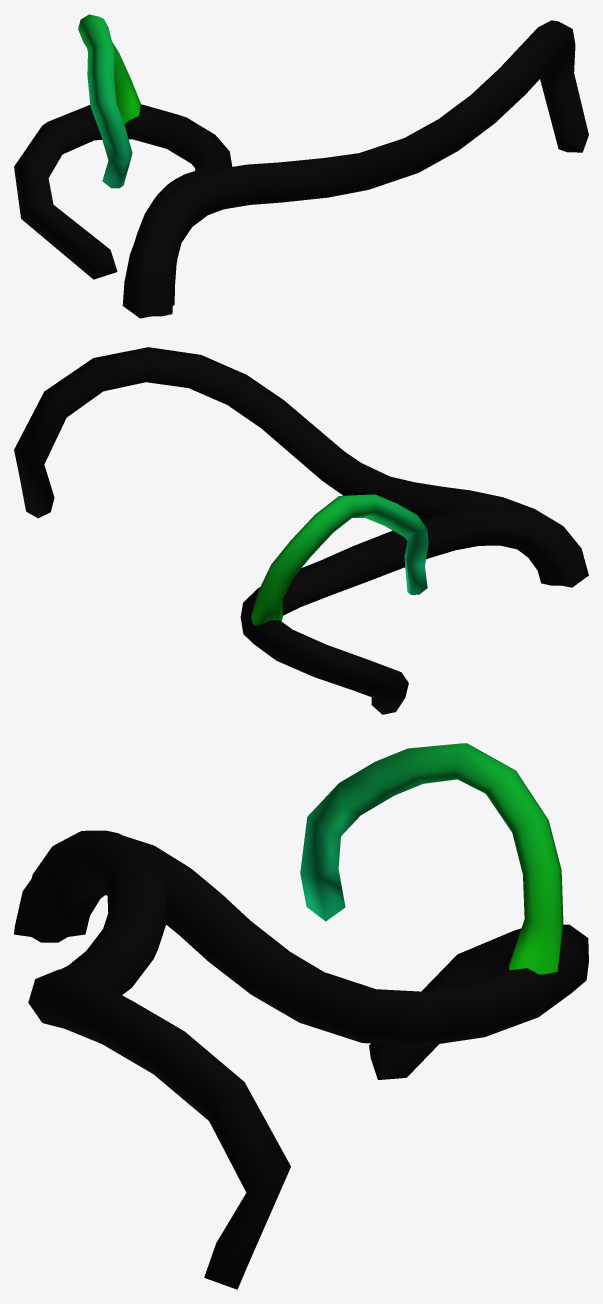
The model's file is DryBranchesHoriz2.fbx.
3 renders of one model, top to bottom at view 1: azimuth 30°, elevation 25°; view 2: azimuth 150°, elevation 25°; view 3: azimuth 270°, elevation 25°, orthographic. The views are drawn at different scales.
Parts seen in each view (by area): view 1: Tree_0; view 2: Tree_0; view 3: Tree_0.
Boxes of the visible parts, x1,y1,x2,y2 form: Tree_0: [14, 14, 588, 318]; Tree_0: [14, 347, 588, 714]; Tree_0: [14, 743, 588, 1289].
Bounding box in the file's own units: 125 × 54.87 × 81.97.
